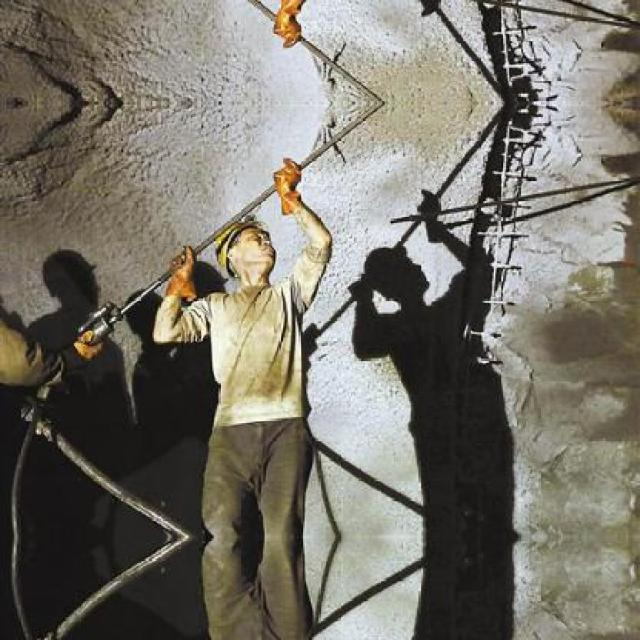helmet: (210, 203, 282, 283)
